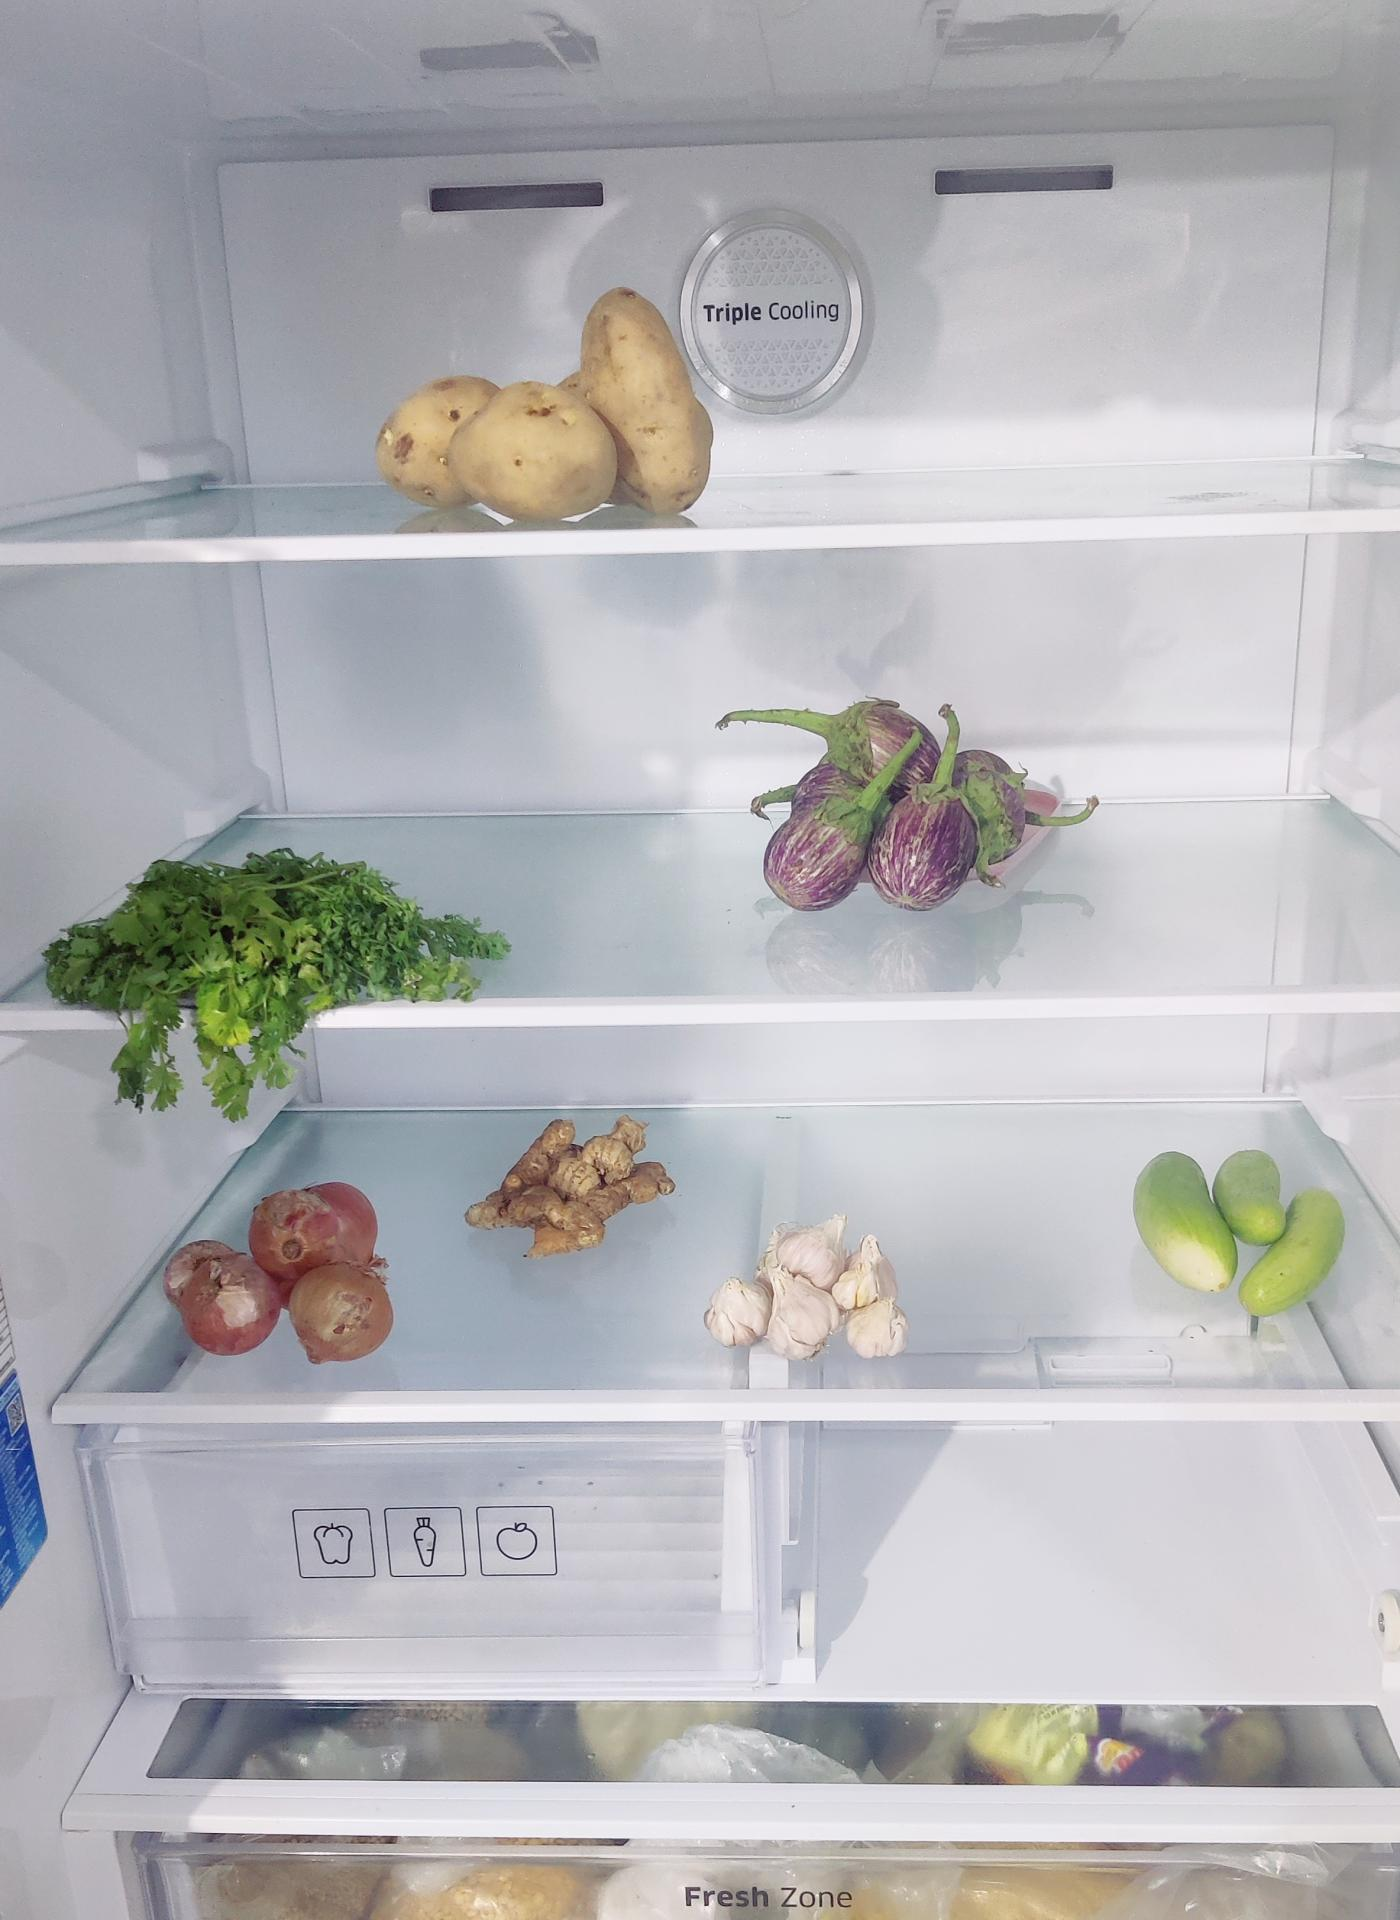brinjal: (766, 705, 1048, 915)
coriander: (49, 857, 499, 1063)
cucumber: (1127, 1149, 1349, 1319)
garlic: (705, 1212, 904, 1364)
ginger: (473, 1111, 675, 1252)
onion: (167, 1181, 394, 1365)
potato: (379, 291, 719, 519)
